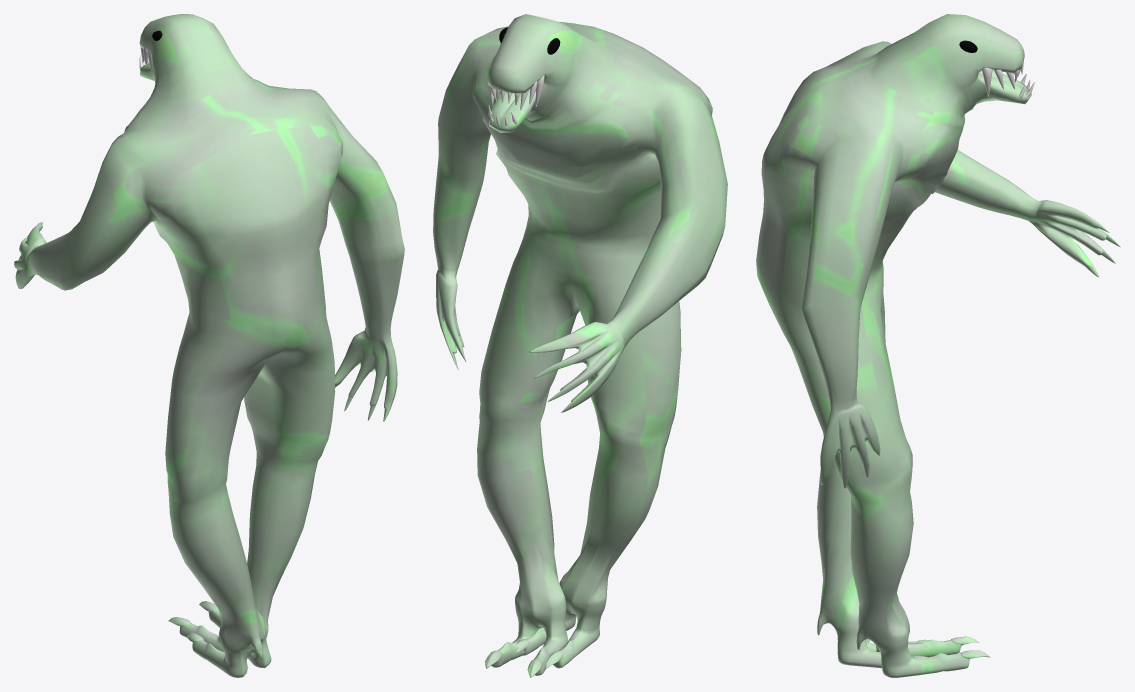
Rendered from Berserkerandar.0082.obj.
The picture shows the model from 3 angles, left to right: view 1: azimuth 30°, elevation 25°; view 2: azimuth 150°, elevation 25°; view 3: azimuth 270°, elevation 25°; orthographic projection. The views are drawn at different scales.
Parts seen in each view (by area): view 1: polySurface27; view 2: polySurface27; view 3: polySurface27.
Part boxes in pixels (left/top/right/bottom): polySurface27: left=14, top=14, right=404, bottom=677; polySurface27: left=433, top=14, right=727, bottom=677; polySurface27: left=756, top=14, right=1120, bottom=677.
Bounding box in the file's own units: 11.78 × 23.94 × 12.37.
Materials: 1 (1 with a texture image).
